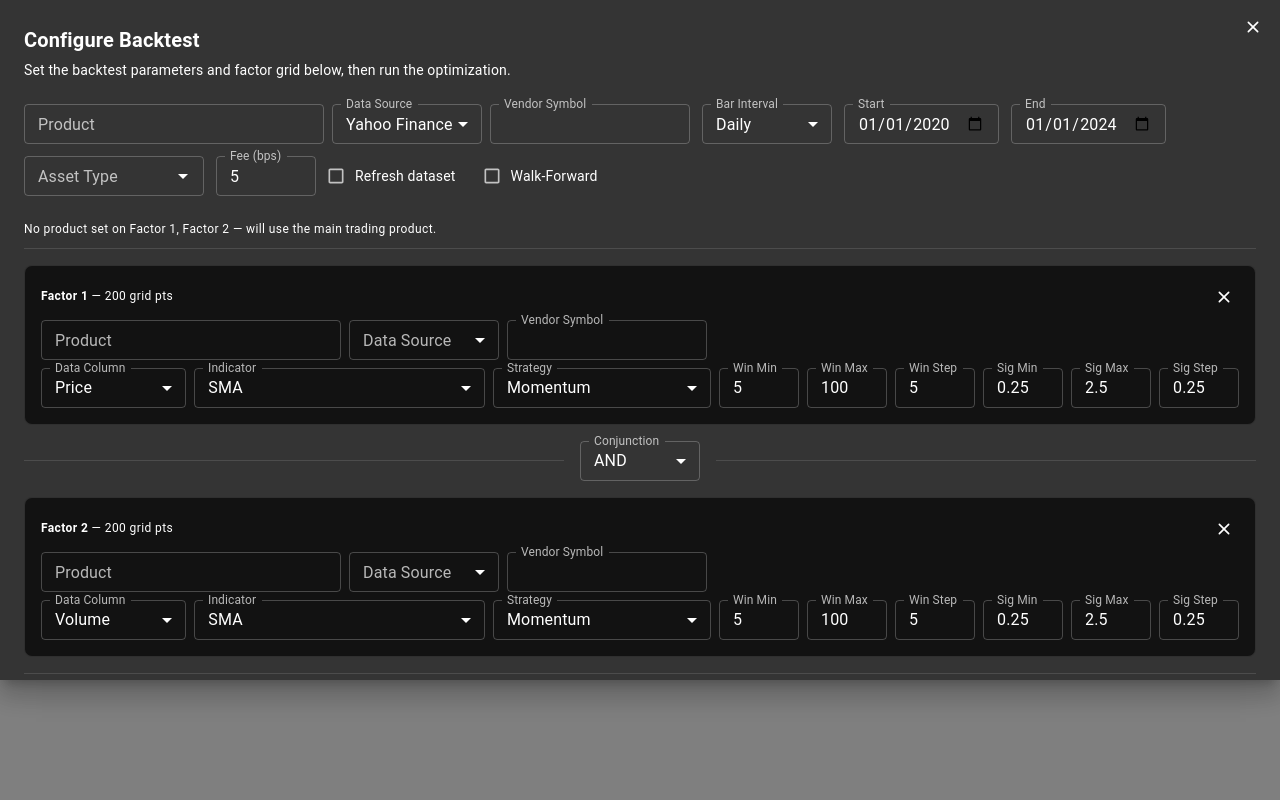
ConfigDrawer — FILTER gate vs signal › moves the added factor to the gate slot when FILTER is selected
Press the mouse on the dropdown named "Conjunction" at (610,461), box [594,451,627,470]
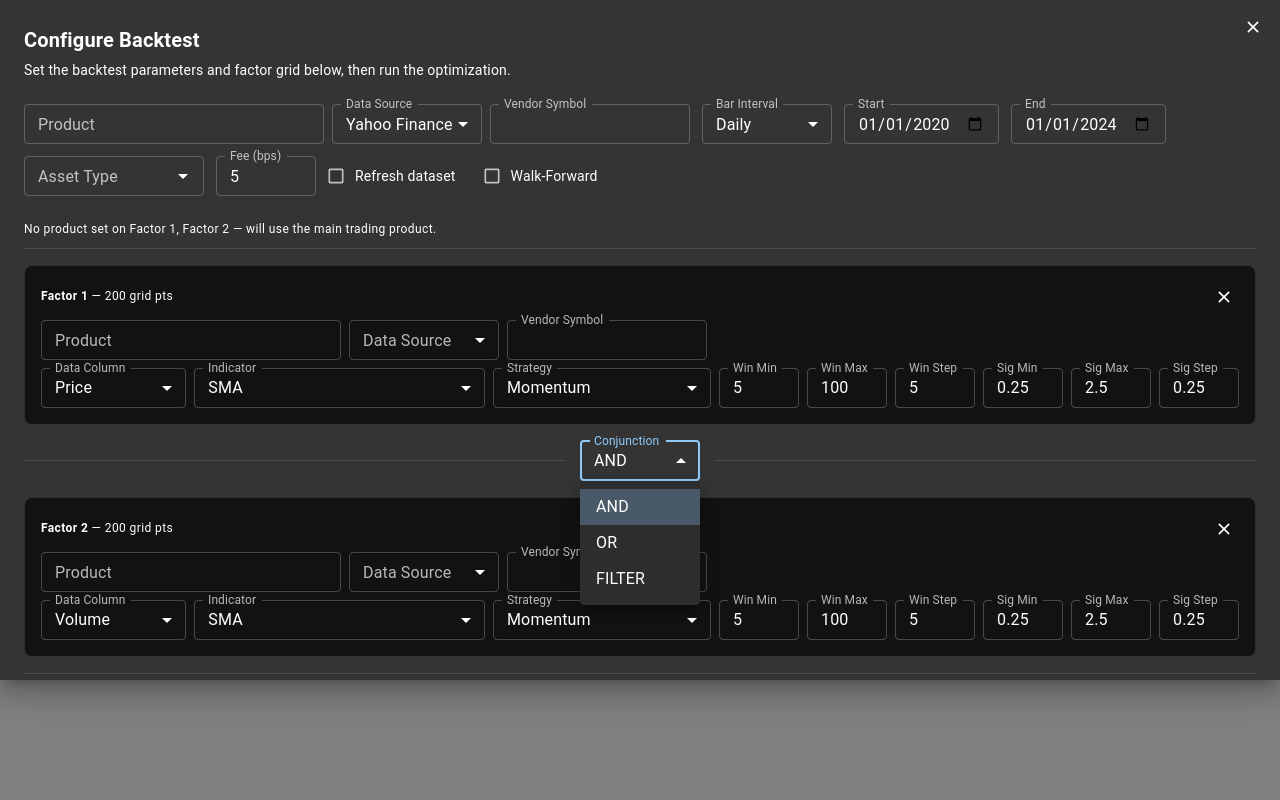
Click the option "FILTER" at (621,578), box [596,569,645,588]
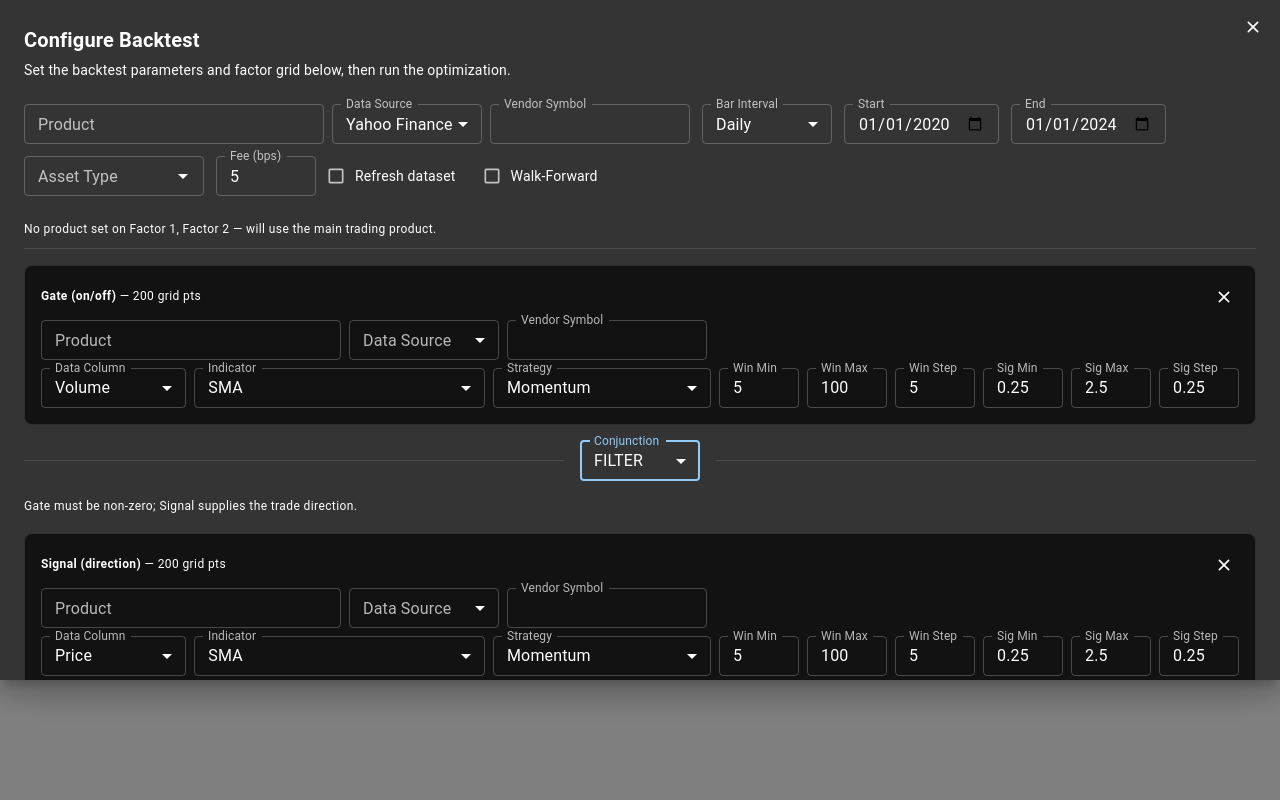
Now the dropdown named "Conjunction" reads "FILTER", box [594,451,643,470]
Now the dropdown labelled "Volume" is shown, box [55,378,110,397]
